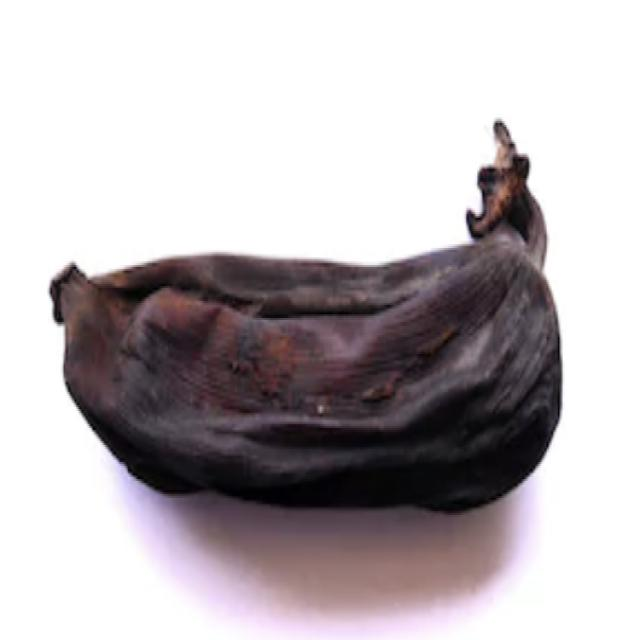rotten-banana: (50, 169, 567, 507)
